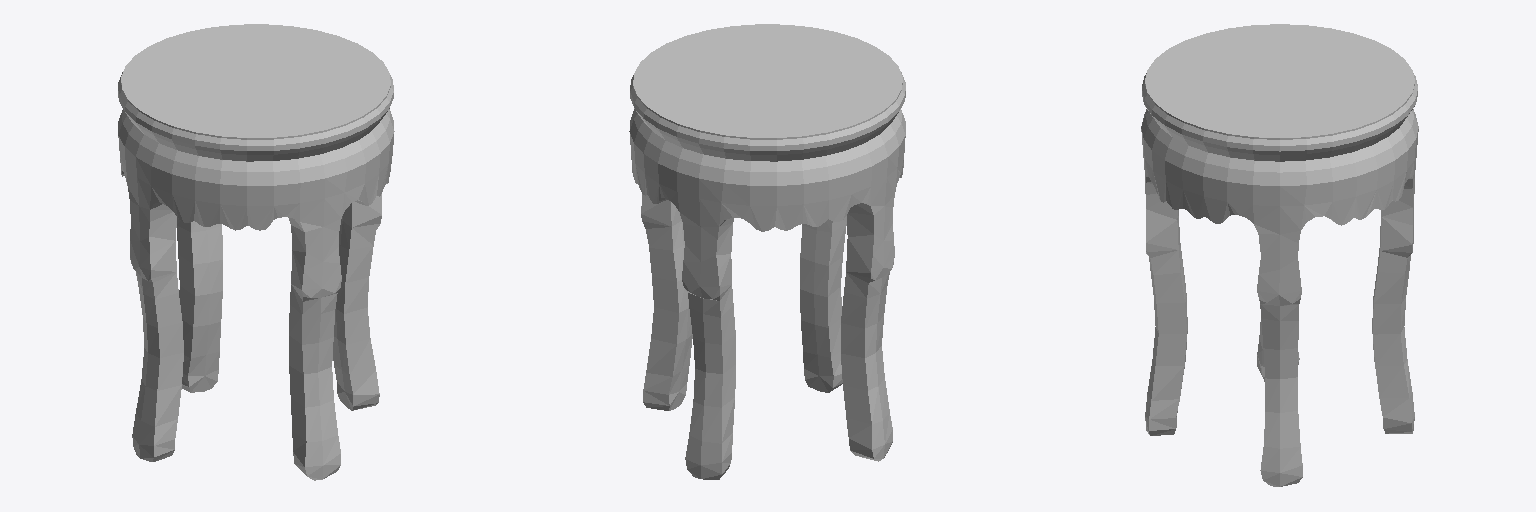
File: WoodenTable_02.obj
3 views of the same model, side by side, from view 1: azimuth 30°, elevation 25°; view 2: azimuth 150°, elevation 25°; view 3: azimuth 270°, elevation 25° (orthographic).
Visible parts, largest first — view 1: WoodenTable_02_Mesh; view 2: WoodenTable_02_Mesh; view 3: WoodenTable_02_Mesh.
Part boxes in pixels (bbox=[...]): WoodenTable_02_Mesh: bbox=[118, 24, 394, 480]; WoodenTable_02_Mesh: bbox=[629, 24, 905, 479]; WoodenTable_02_Mesh: bbox=[1141, 24, 1418, 486].
Bounding box in the file's own units: 0.3007 × 0.4177 × 0.3007.